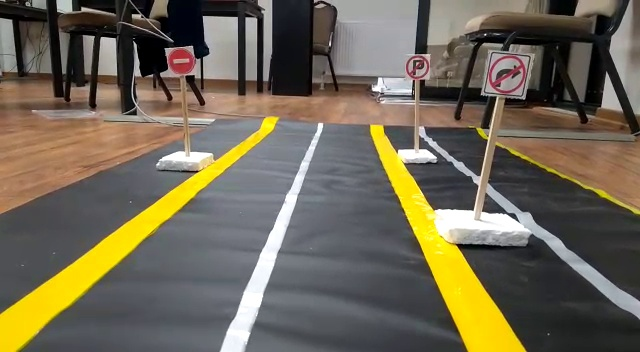girisi_olmayan_yol: (163, 45, 197, 72)
park_yapilmaz: (406, 52, 429, 80)
saga_donulmez: (480, 50, 528, 97)
